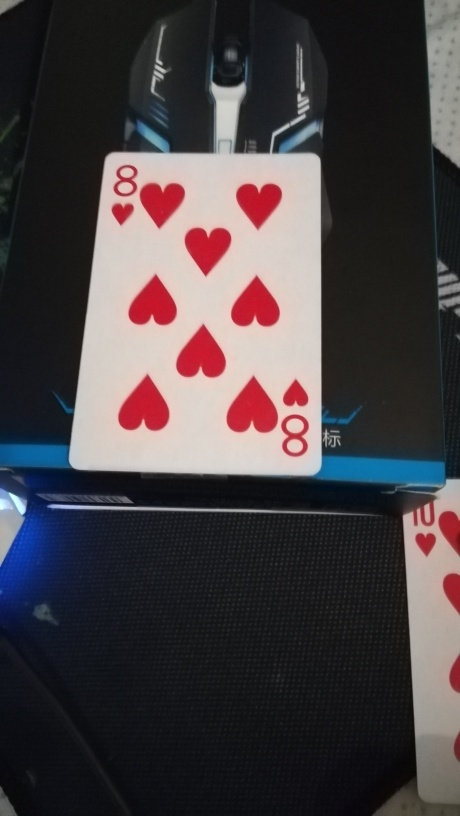hx 8: (70, 150, 323, 480)
